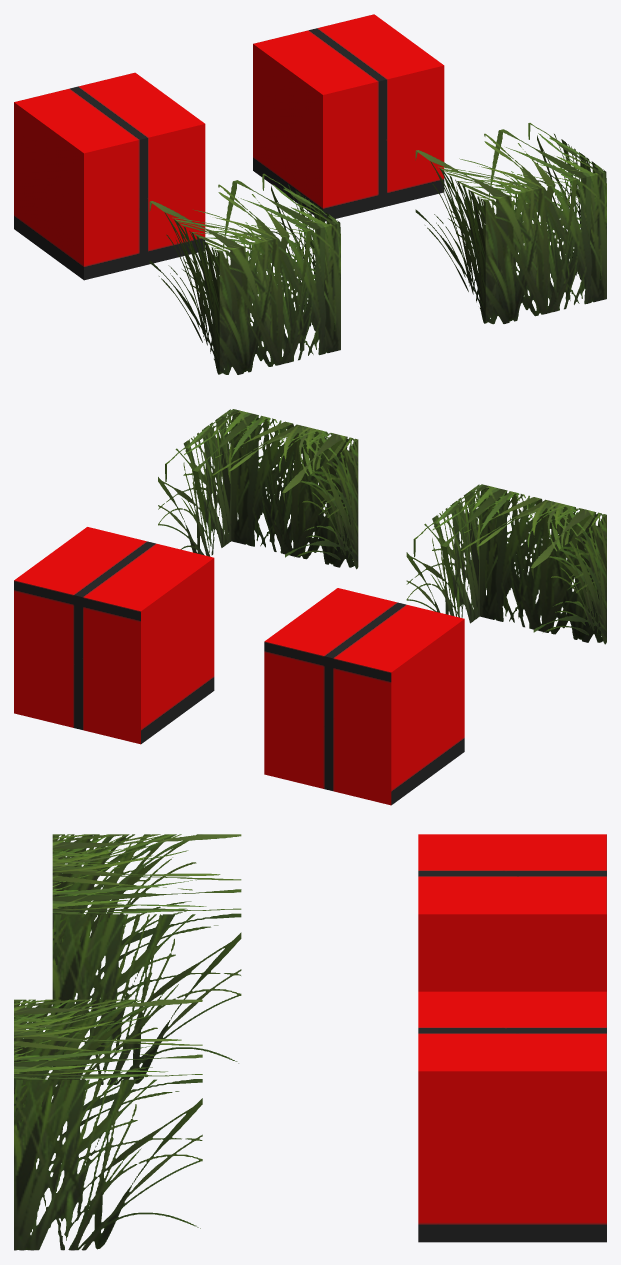
The model's file is cube_trans.fbx.
The picture shows the model from 3 angles, top to bottom: view 1: azimuth 30°, elevation 25°; view 2: azimuth 150°, elevation 25°; view 3: azimuth 270°, elevation 25°; orthographic projection. The views are drawn at different scales.
Visible parts, largest first — view 1: pCube1, pCube2, pCube4, pCube3; view 2: pCube1, pCube2, pCube3, pCube4; view 3: pCube2, pCube1, pCube3, pCube4.
Boxes of the visible parts, bbox=[...] form: pCube1: bbox=[14, 72, 205, 280]; pCube2: bbox=[253, 14, 444, 221]; pCube4: bbox=[149, 173, 340, 374]; pCube3: bbox=[415, 123, 606, 324]; pCube1: bbox=[264, 588, 464, 805]; pCube2: bbox=[14, 527, 214, 744]; pCube3: bbox=[158, 409, 358, 569]; pCube4: bbox=[406, 484, 606, 644]; pCube2: bbox=[418, 991, 606, 1242]; pCube1: bbox=[418, 834, 606, 991]; pCube3: bbox=[14, 999, 202, 1250]; pCube4: bbox=[52, 834, 241, 1084].
Size of the model in its own units: 3.07 by 1 by 3.14.
Materials: 2 (2 with a texture image).
